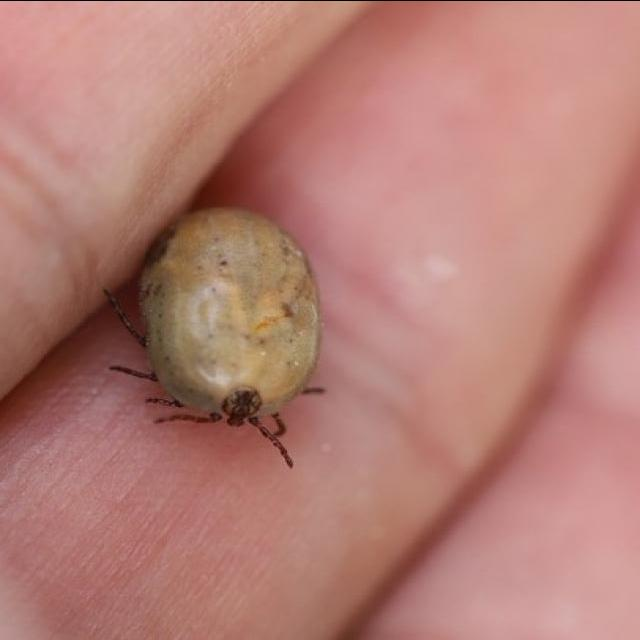Dermacentor Reticulatus-F-Fed: (102, 208, 322, 469)
